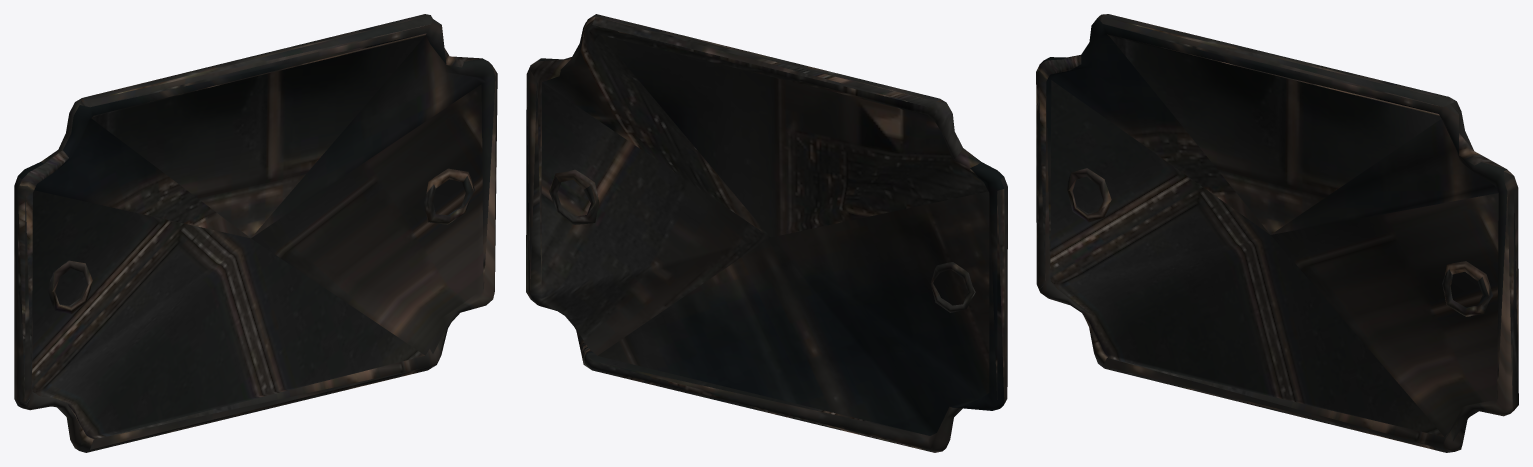
File: RoomNumber4.fbx
3 renders of one model, left to right at view 1: azimuth 30°, elevation 25°; view 2: azimuth 150°, elevation 25°; view 3: azimuth 330°, elevation 25°, orthographic.
Parts seen in each view (by area): view 1: RoomNumber4; view 2: RoomNumber4; view 3: RoomNumber4.
Part boxes in pixels (x1,y1,x2,y2): RoomNumber4: [14, 14, 497, 452]; RoomNumber4: [526, 14, 1007, 452]; RoomNumber4: [1036, 14, 1518, 452].
Size of the model in its own units: 172 by 121 by 6.5.
